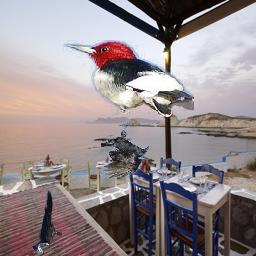Crow: (101, 120, 149, 179)
Woodpecker: (64, 40, 195, 118), (30, 190, 62, 254)
